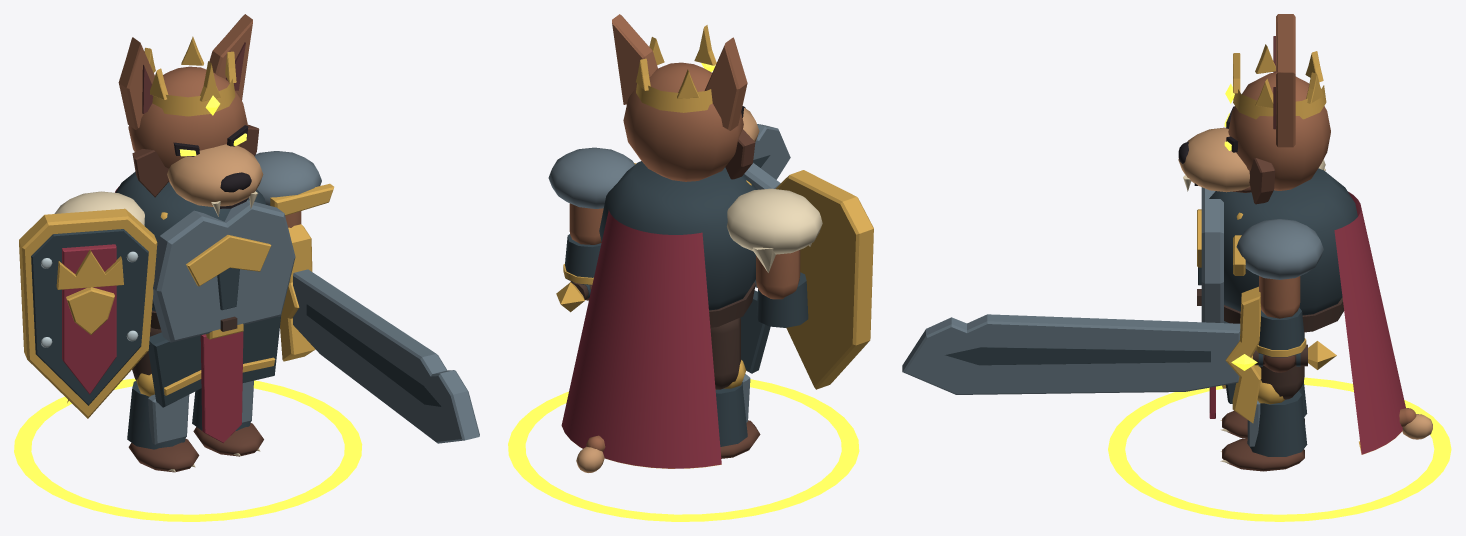
The model's file is boss_knight.glb.
3 views of the same model, side by side, from view 1: azimuth 30°, elevation 25°; view 2: azimuth 150°, elevation 25°; view 3: azimuth 270°, elevation 25° (orthographic). The views are drawn at different scales.
Parts seen in each view (by area): view 1: graz-body, graz-king-shield, graz-royal-cleaver, graz-head, object 13, graz-leg-left, graz-sword-arm, graz-crown, graz-leg-right, graz-shield-arm; view 2: graz-cape, graz-head, graz-body, graz-king-shield, graz-shield-arm, object 13, graz-sword-arm, graz-leg-left, graz-crown, graz-royal-cleaver, graz-tail; view 3: graz-royal-cleaver, graz-body, graz-head, graz-cape, graz-sword-arm, object 13, graz-leg-right, graz-crown, graz-tail, graz-leg-left.
Boxes of the visible parts, box(x1,y1,x2,y2) form: graz-body: box(115, 171, 295, 442); graz-king-shield: box(19, 208, 157, 418); graz-royal-cleaver: box(280, 224, 479, 443); graz-head: box(118, 14, 263, 216); object 13: box(14, 378, 362, 521); graz-leg-left: box(127, 327, 199, 472); graz-sword-arm: box(254, 151, 334, 227); graz-crown: box(144, 36, 236, 116); graz-leg-right: box(192, 380, 263, 456); graz-shield-arm: box(54, 191, 144, 225); graz-cape: box(561, 210, 721, 468); graz-head: box(612, 14, 759, 181); graz-body: box(599, 161, 780, 373); graz-king-shield: box(775, 170, 873, 389); graz-shield-arm: box(727, 188, 822, 327); object 13: box(508, 379, 859, 521); graz-sword-arm: box(548, 147, 636, 285); graz-leg-left: box(710, 317, 760, 458); graz-crown: box(636, 25, 716, 112); graz-royal-cleaver: box(556, 124, 790, 312); graz-tail: box(576, 435, 605, 472); graz-royal-cleaver: box(902, 286, 1336, 423); graz-body: box(1197, 168, 1357, 418); graz-head: box(1178, 14, 1330, 204); graz-cape: box(1334, 191, 1405, 454); graz-sword-arm: box(1233, 219, 1323, 357); object 13: box(1108, 377, 1451, 521); graz-leg-right: box(1220, 332, 1307, 471); graz-crown: box(1225, 44, 1326, 119); graz-tail: box(1399, 408, 1432, 439); graz-leg-left: box(1220, 332, 1307, 438).
Bounding box in the file's own units: 2.17 × 2.65 × 3.2.
